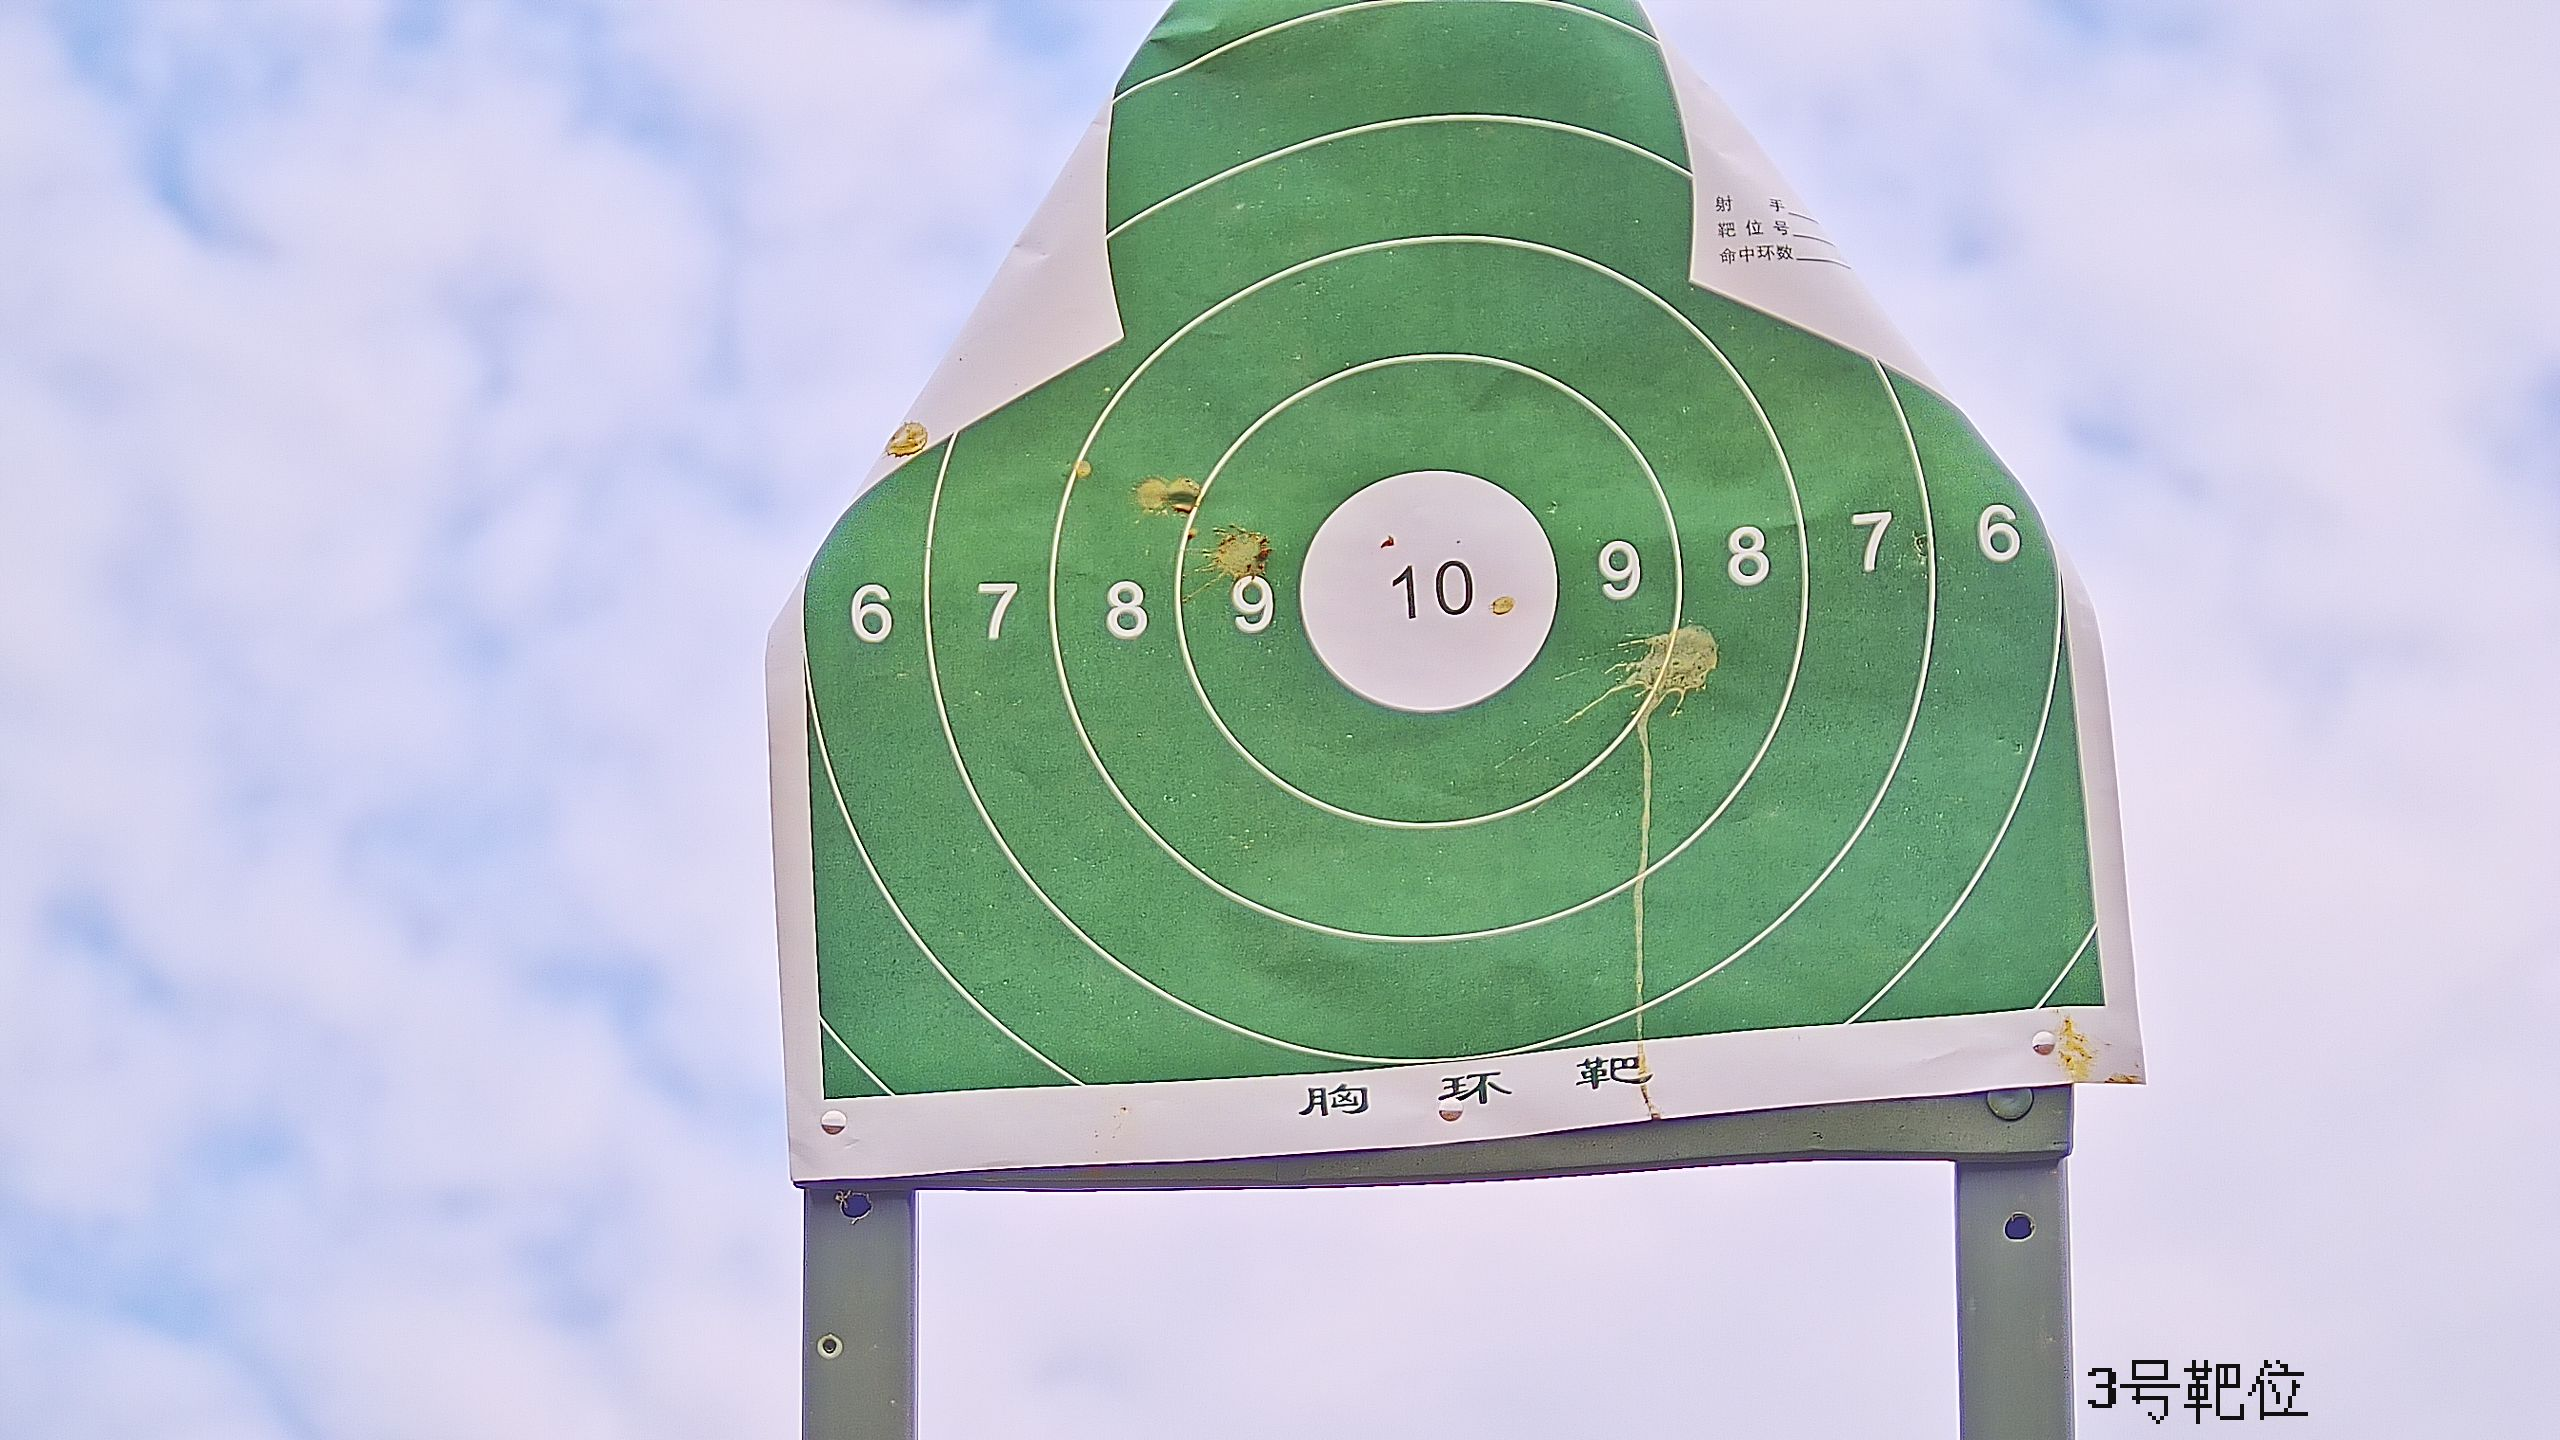kernel: (1424, 591, 1442, 600)
target: (805, 7, 2117, 1104)
ten: (1298, 466, 1560, 716)
